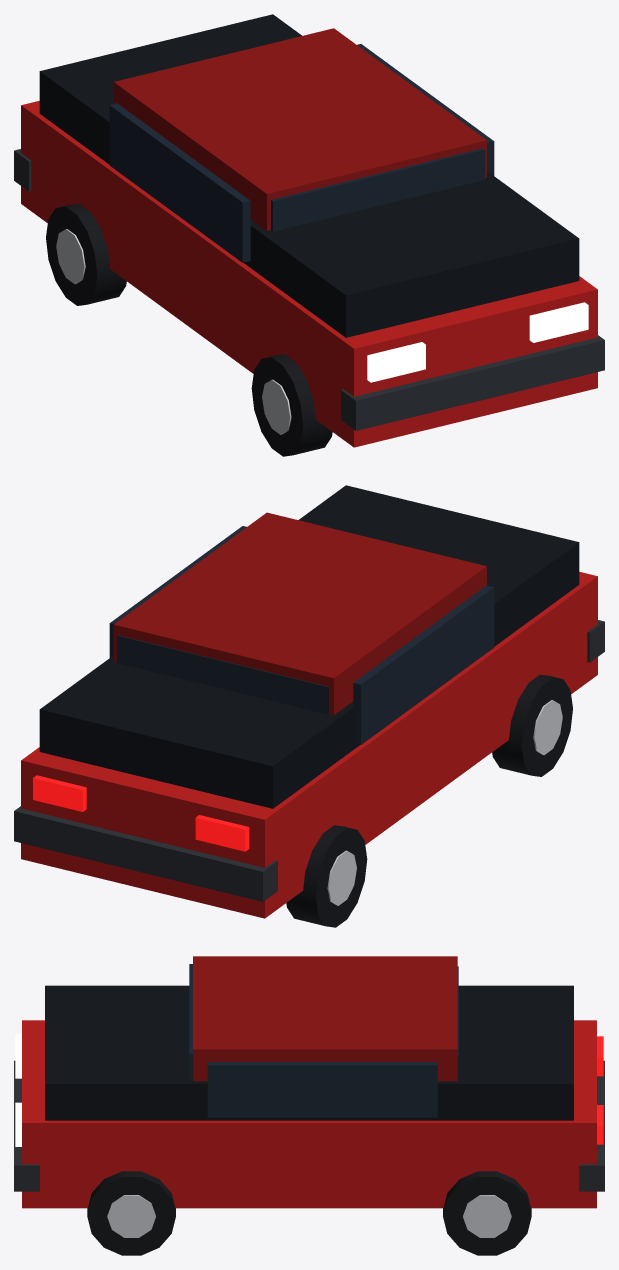
Rendered from mobil_player.glb.
3 views of the same model, one above another, from view 1: azimuth 30°, elevation 25°; view 2: azimuth 150°, elevation 25°; view 3: azimuth 270°, elevation 25° (orthographic). The views are drawn at different scales.
Parts seen in each view (by area): view 1: object 1, object 2, object 3, object 6, object 8, object 4, wheel_rl, wheel_fl, object 12, object 10, object 7, object 9; view 2: object 1, object 2, object 3, object 6, object 9, object 5, wheel_fl, wheel_rl, object 11, object 13, object 7, object 8; view 3: object 1, object 2, object 3, object 7, wheel_fr, wheel_rr, object 9, object 8, object 4.
Part boxes in pixels (x1,y1,x2,y2): object 1: (21, 101, 597, 447); object 2: (39, 14, 579, 337); object 3: (113, 28, 486, 230); object 6: (109, 103, 250, 262); object 8: (341, 335, 604, 430); object 4: (271, 148, 485, 231); wheel_rl: (46, 203, 126, 305); wheel_fl: (251, 354, 332, 456); object 12: (529, 302, 588, 342); object 10: (367, 342, 425, 382); object 7: (357, 44, 494, 175); object 9: (14, 149, 31, 191); object 1: (21, 572, 597, 918); object 2: (39, 485, 579, 808); object 3: (113, 512, 486, 715); object 6: (353, 585, 494, 744); object 9: (14, 806, 277, 901); object 5: (117, 635, 329, 714); wheel_fl: (492, 674, 572, 776); wheel_rl: (286, 825, 367, 927); object 11: (195, 815, 249, 851); object 13: (33, 775, 86, 811); object 7: (109, 526, 246, 657); object 8: (587, 620, 604, 662); object 1: (22, 1020, 596, 1208); object 2: (45, 985, 573, 1120); object 3: (193, 956, 457, 1081); object 7: (207, 1062, 437, 1117); wheel_fr: (87, 1171, 175, 1255); wheel_rr: (443, 1171, 531, 1255); object 9: (579, 1060, 604, 1191); object 8: (14, 1060, 39, 1191); object 4: (189, 964, 192, 1079).
Bounding box in the file's own units: 2.08 × 1.65 × 4.52.
